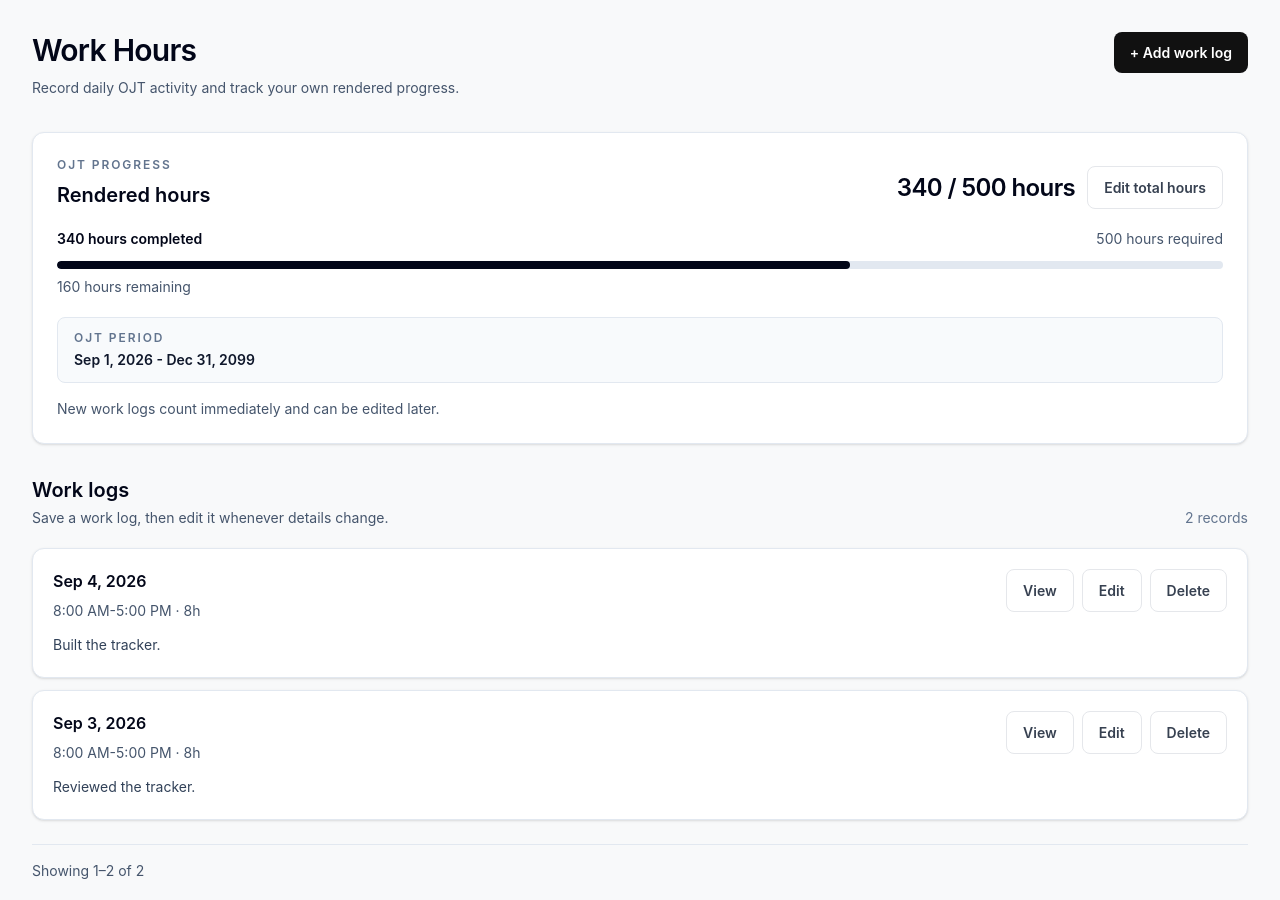
Test: WorkHoursView › updates the required work-hour goal from the page
Click the button with test id "edit-hours-goal": (1155, 188) [1087, 166, 1223, 209]
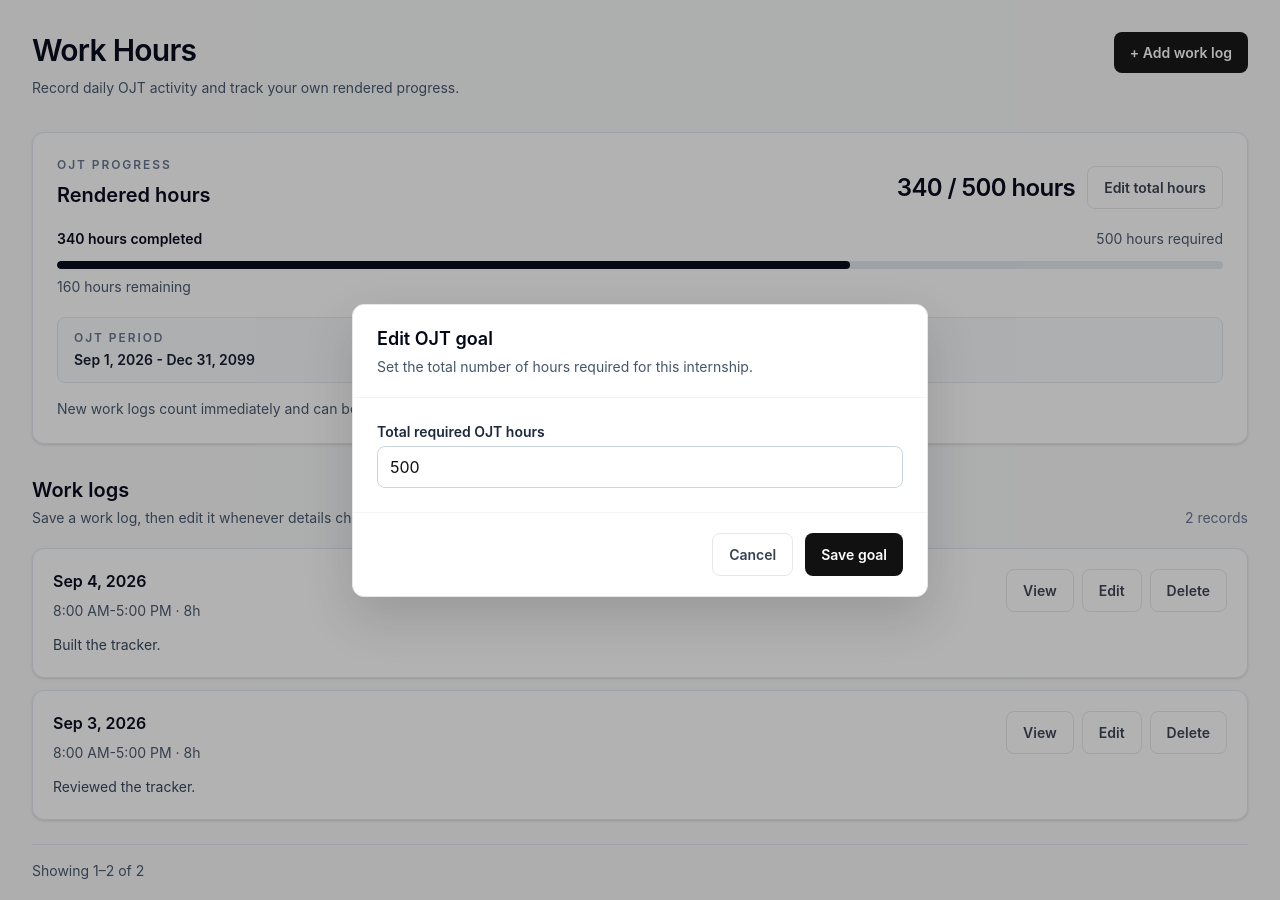
Replace the text in the number field with id "goal-hours" with "600": (640, 466) [377, 446, 903, 488]
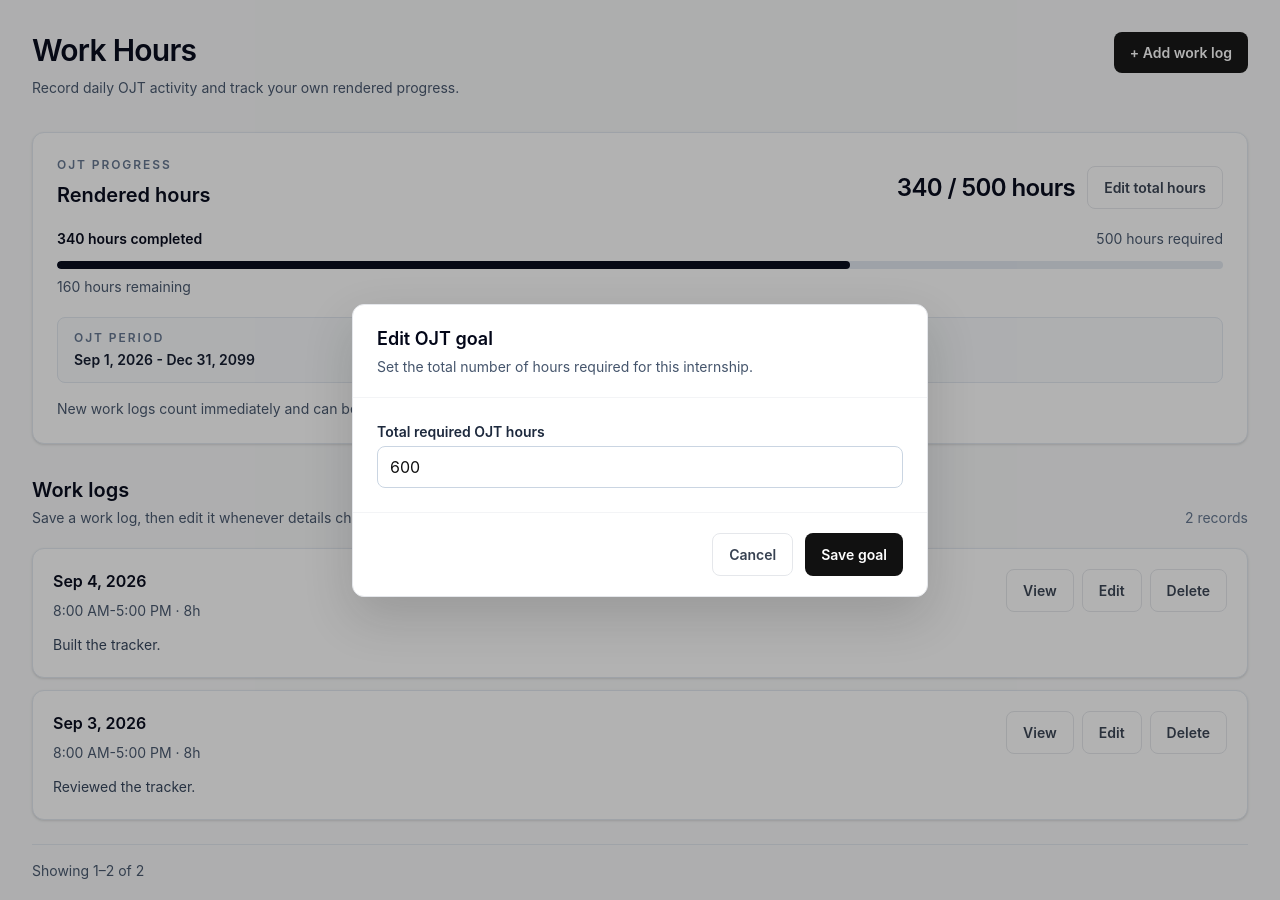
Submit the form with id "internship-form", box [377, 422, 903, 488]
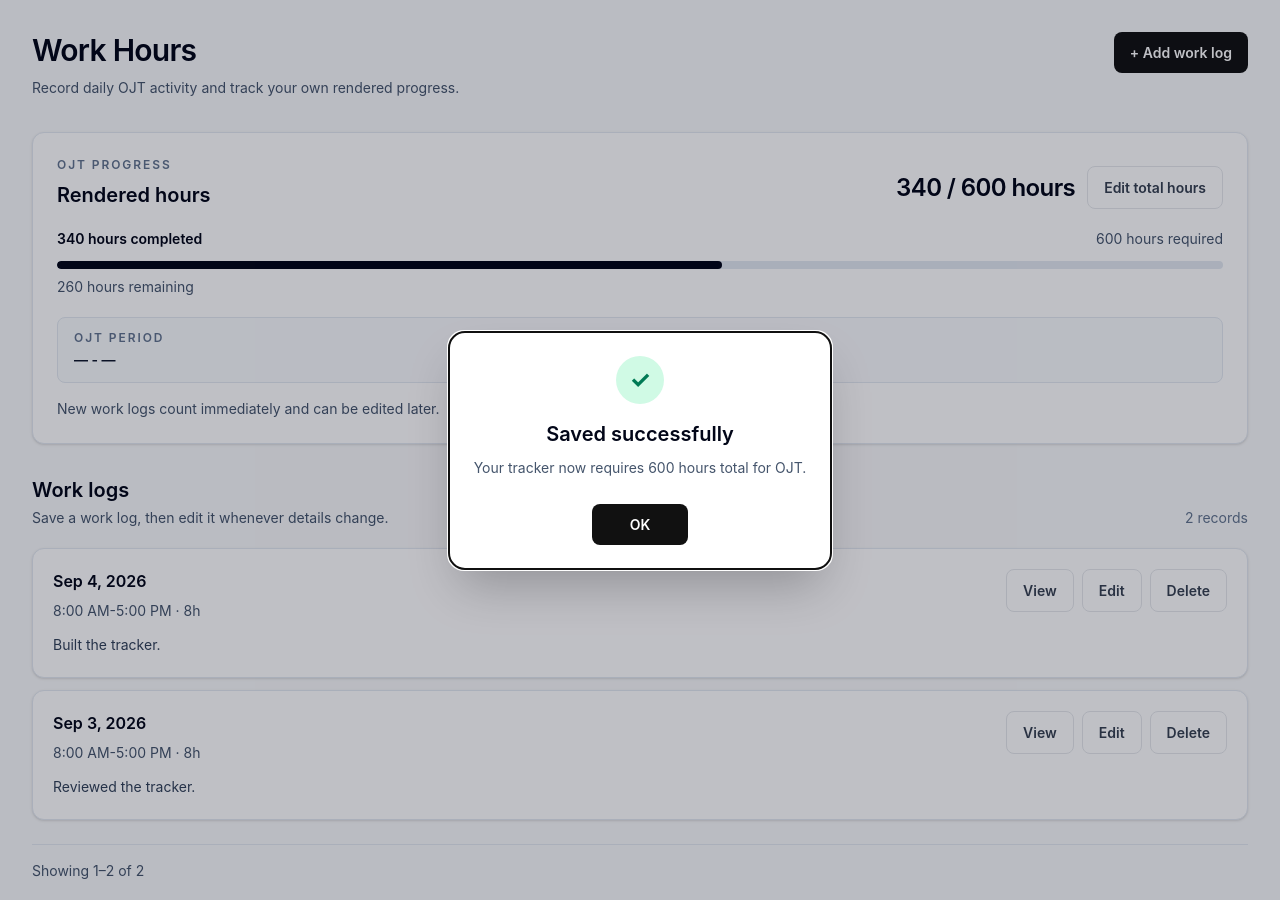
Expected: the text "600 hours" is shown, [896, 172, 1075, 202]
Expected: the dialog with test id "action-alert" is shown, [448, 330, 832, 570]
